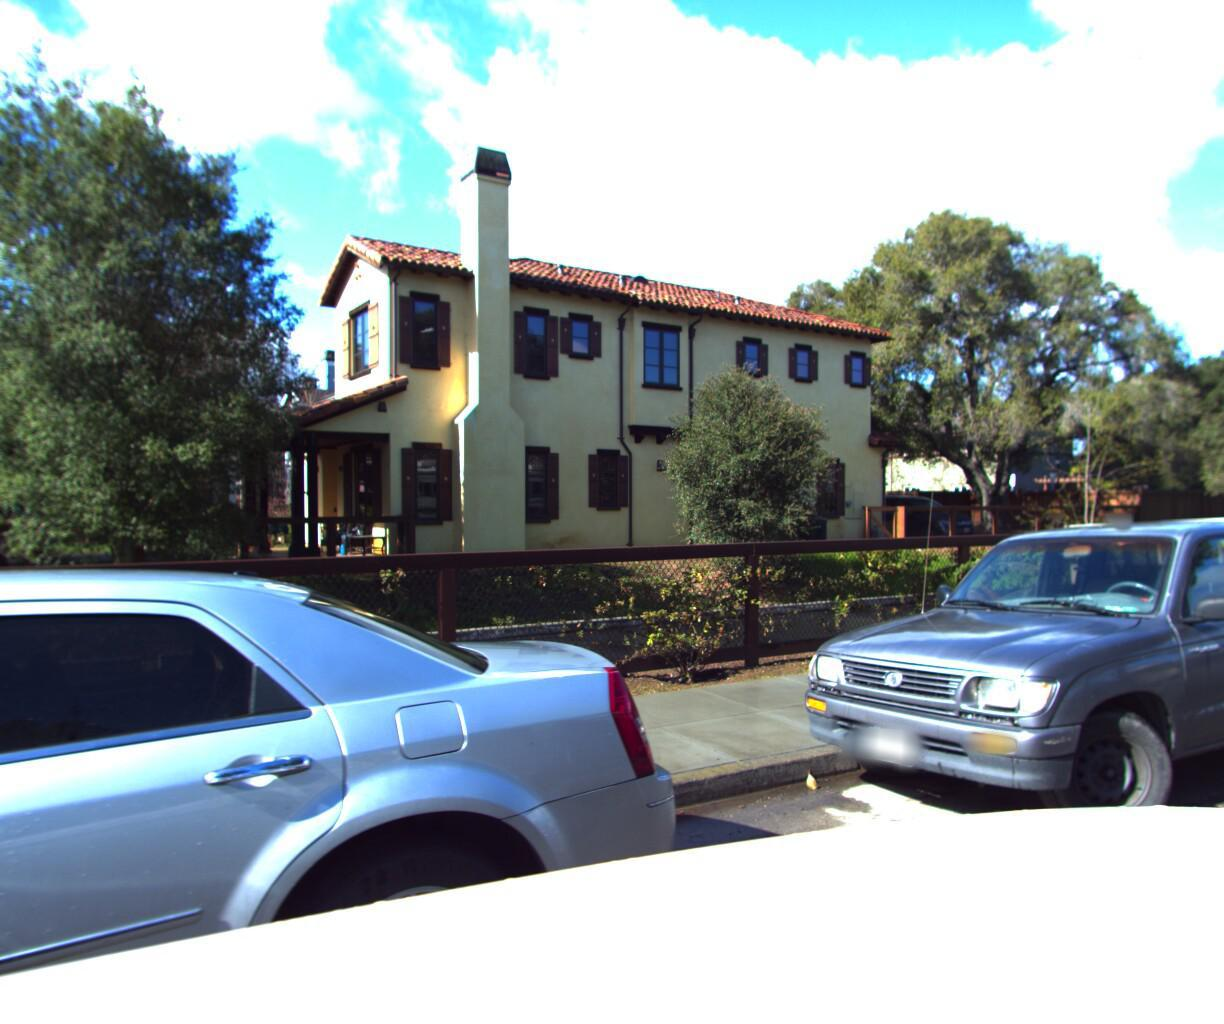car: (0, 526, 774, 1024), (743, 500, 1224, 887)
